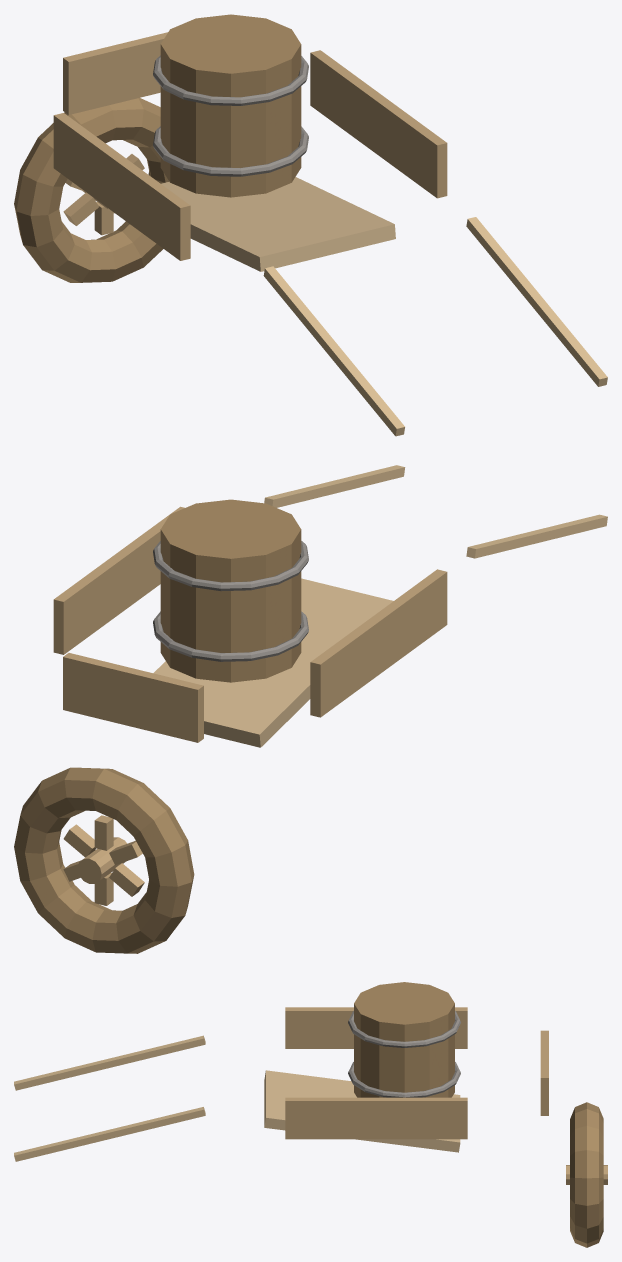
File: Barrel_Cart.glb
The picture shows the model from 3 angles, top to bottom: view 1: azimuth 30°, elevation 25°; view 2: azimuth 150°, elevation 25°; view 3: azimuth 270°, elevation 25°; orthographic projection. The views are drawn at different scales.
Parts seen in each view (by area): view 1: Barrel_Cart; view 2: Barrel_Cart; view 3: Barrel_Cart.
Boxes of the visible parts, box(x1,y1,x2,y2) form: Barrel_Cart: box(14, 14, 607, 436); Barrel_Cart: box(14, 465, 607, 953); Barrel_Cart: box(14, 982, 607, 1247).
Size of the model in its own units: 0.79 by 0.935 by 2.12.
